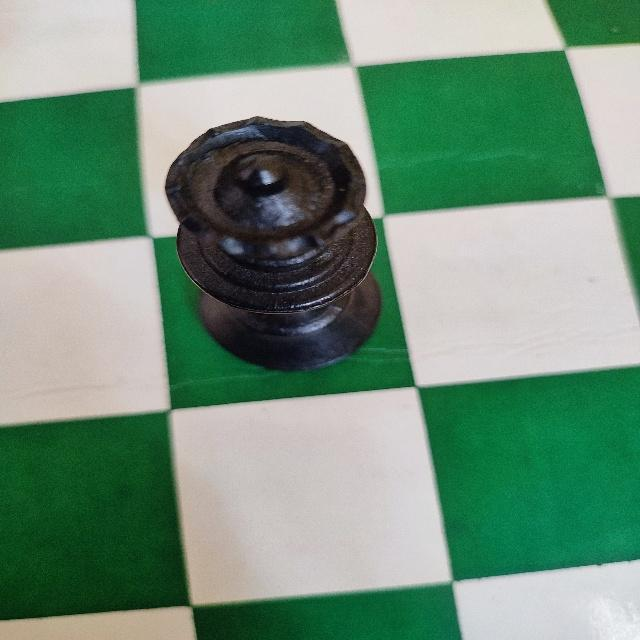Queen: (154, 110, 400, 380)
